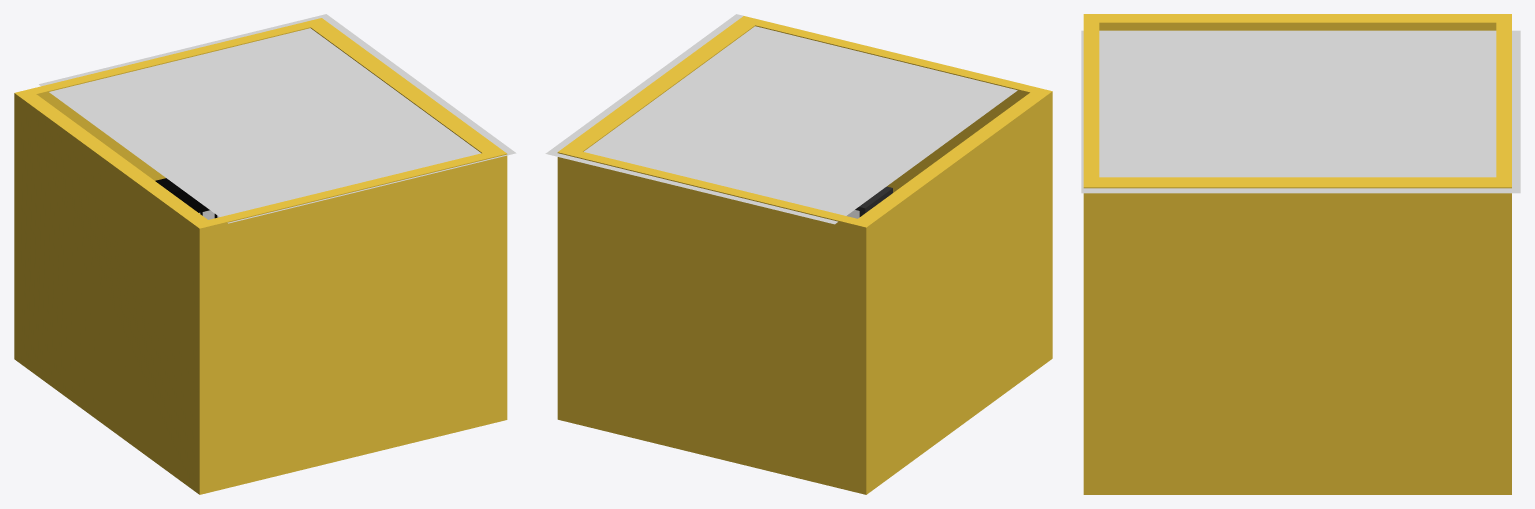
Rendered from VREscenario.fbx.
The picture shows the model from 3 angles, left to right: view 1: azimuth 30°, elevation 25°; view 2: azimuth 150°, elevation 25°; view 3: azimuth 270°, elevation 25°; orthographic projection. The views are drawn at different scales.
Parts seen in each view (by area): view 1: Cube.002, Plane.007, Cube.009; view 2: Cube.002, Plane.007; view 3: Cube.002, Plane.007.
Boxes of the visible parts, left/top/right/bottom form: Cube.002: left=14, top=18, right=507, bottom=494; Plane.007: left=39, top=14, right=516, bottom=223; Cube.009: left=155, top=178, right=219, bottom=219; Cube.002: left=557, top=16, right=1052, bottom=494; Plane.007: left=545, top=14, right=1018, bottom=224; Cube.002: left=1083, top=14, right=1511, bottom=494; Plane.007: left=1081, top=30, right=1520, bottom=193.
Bounding box in the file's own units: 1070 × 862 × 1116.
